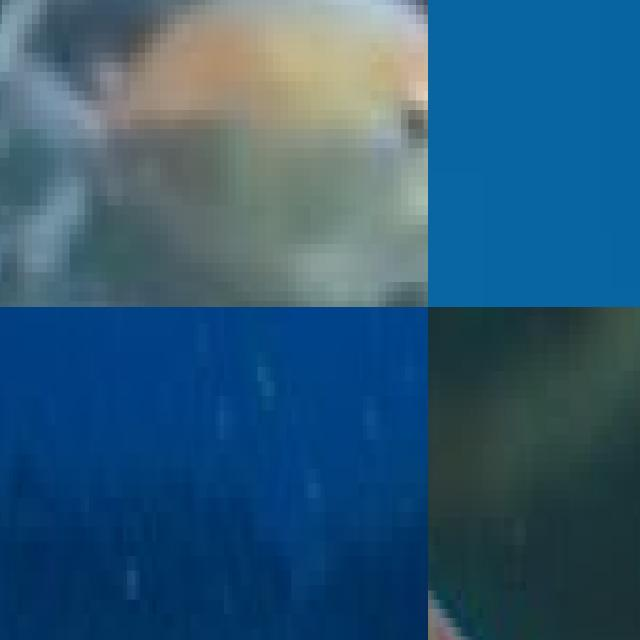fish: (0, 0, 428, 307), (428, 0, 640, 307)
